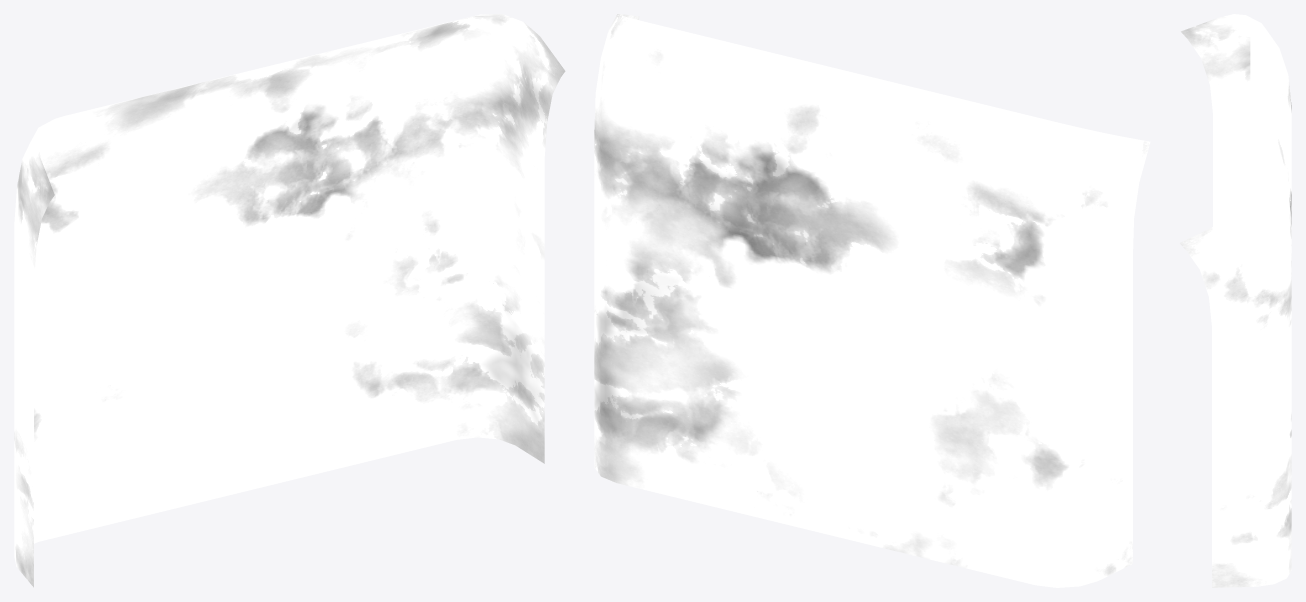
Rendered from SM_Waterfall_Main.fbx.
3 views of the same model, side by side, from view 1: azimuth 30°, elevation 25°; view 2: azimuth 150°, elevation 25°; view 3: azimuth 270°, elevation 25° (orthographic). The views are drawn at different scales.
Visible parts, largest first — view 1: SM_Waterfall_Main; view 2: SM_Waterfall_Main; view 3: SM_Waterfall_Main.
Part boxes in pixels (x1,y1,x2,y2): SM_Waterfall_Main: [14, 14, 565, 587]; SM_Waterfall_Main: [594, 14, 1150, 587]; SM_Waterfall_Main: [1180, 14, 1291, 587].
Bounding box in the file's own units: 1873 × 418 × 1551.
Materials: 1 (1 with a texture image).
